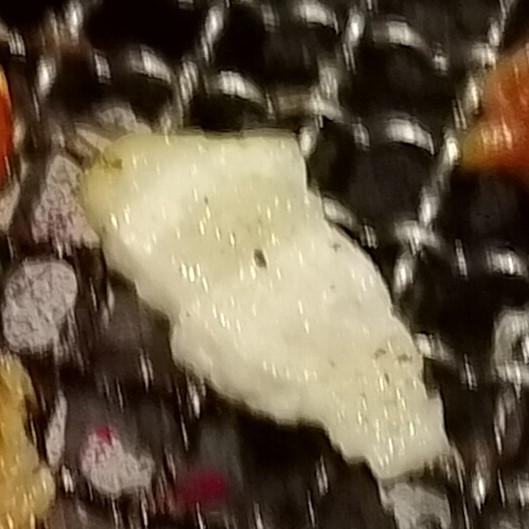Undercooked: (78, 131, 451, 484)
